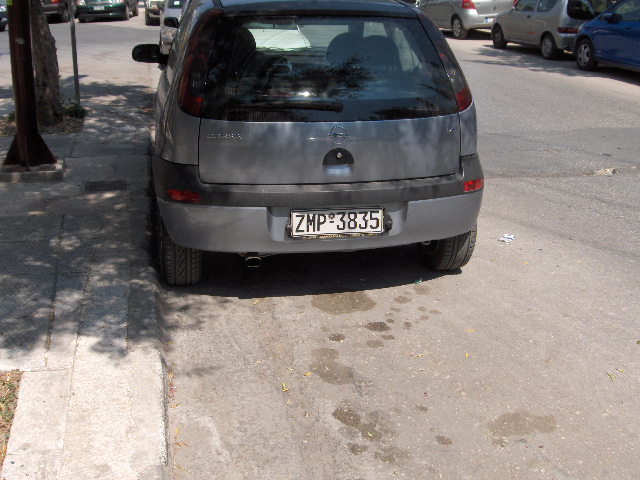licenseplate: (289, 205, 383, 237)
